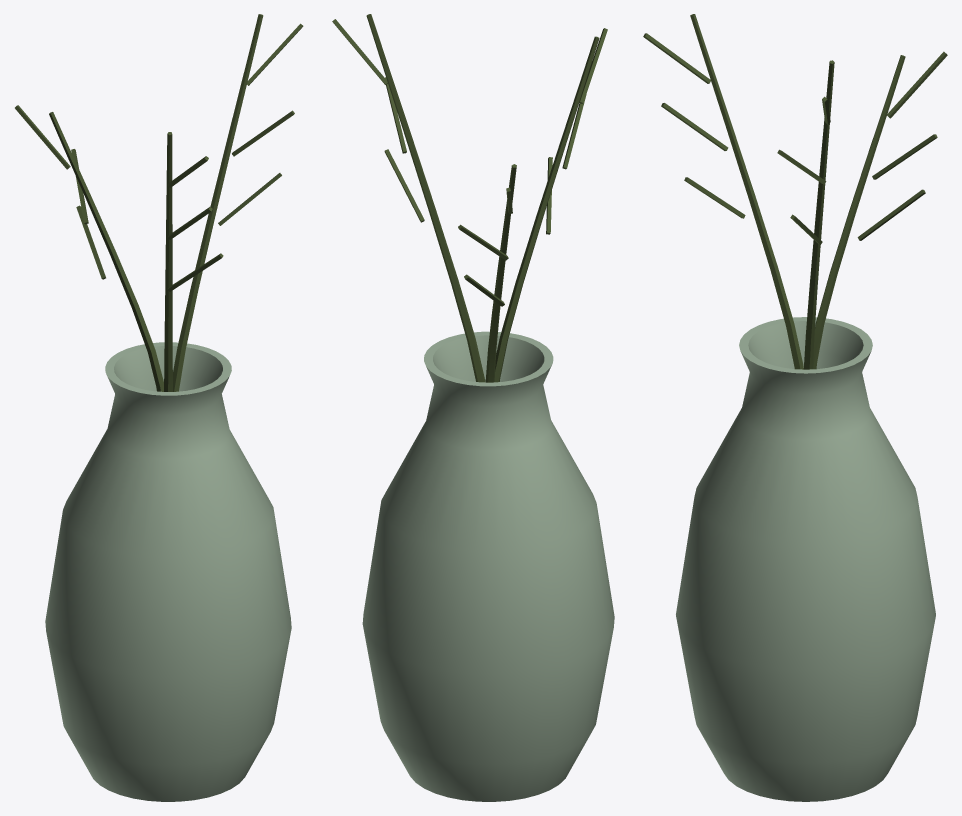
File: ap_vase.glb
3 renders of one model, left to right at view 1: azimuth 30°, elevation 25°; view 2: azimuth 150°, elevation 25°; view 3: azimuth 270°, elevation 25°, orthographic. The views are drawn at different scales.
Visible parts, largest first — view 1: ap_vase; view 2: ap_vase; view 3: ap_vase.
Part boxes in pixels (bbox=[...]): ap_vase: bbox=[15, 14, 303, 801]; ap_vase: bbox=[332, 14, 614, 801]; ap_vase: bbox=[643, 14, 947, 801].
Bounding box in the file's own units: 0.1642 × 0.4504 × 0.1639.
